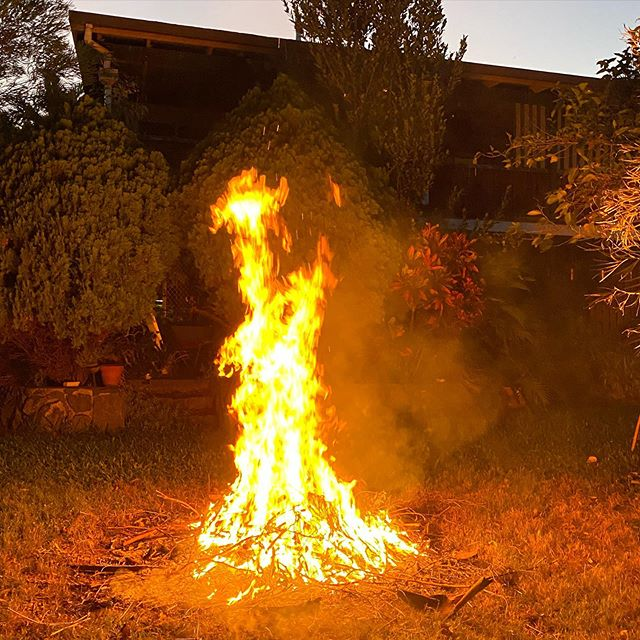building: (84, 21, 640, 255)
fireplace: (154, 173, 437, 602)
grass: (8, 425, 640, 640)
tree: (171, 72, 413, 453), (1, 70, 170, 409), (295, 1, 466, 207)
